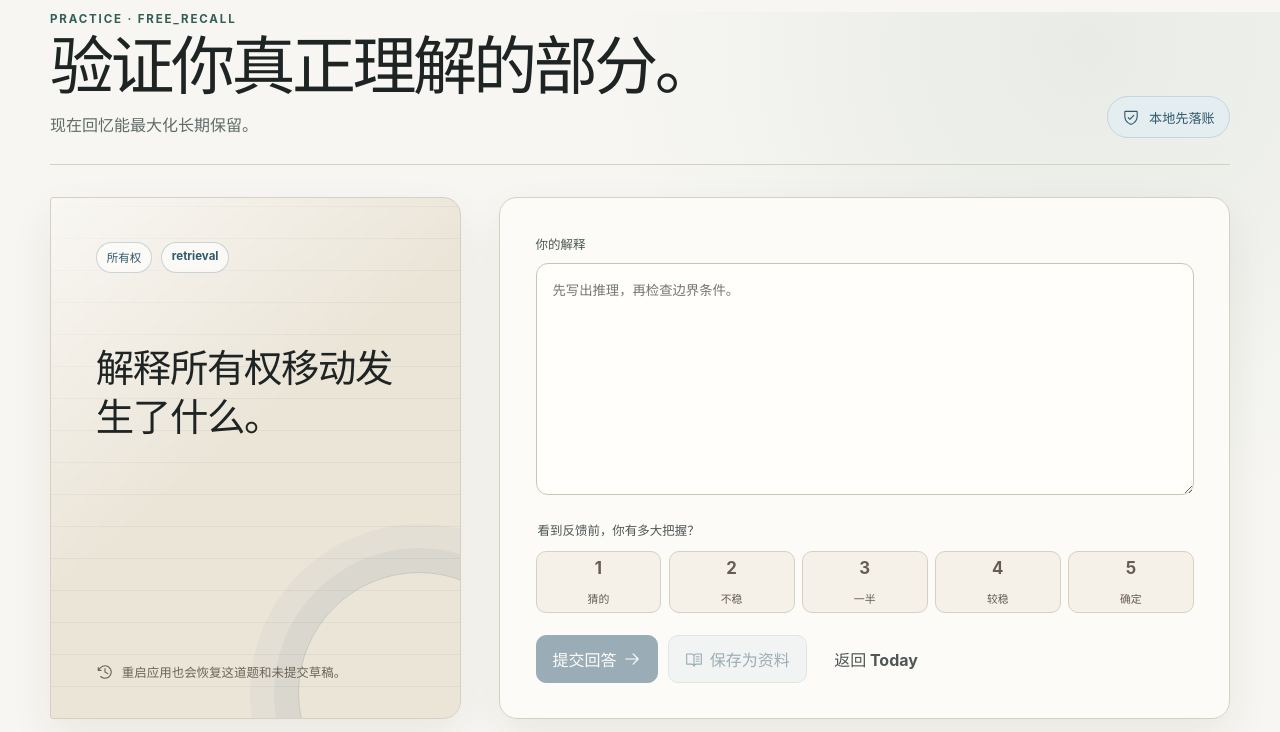
Test case: PracticePage › requires pre-feedback confidence and returns a zero-wait local receipt
Type "值被移动后，旧绑定不能再使用。" into the text box labelled "你的解释" at (865, 379), box x1=536 y1=263 x2=1194 y2=495
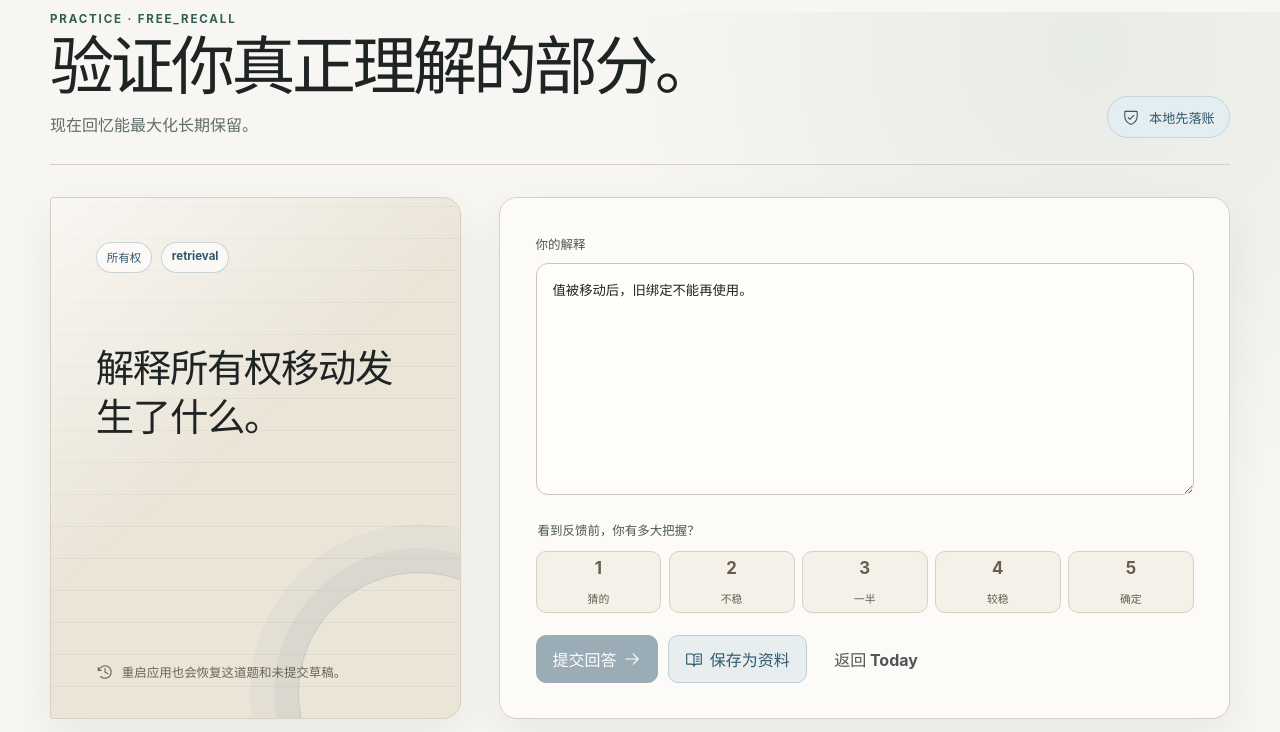
expect the button "提交回答" is disabled: met, box x1=536 y1=635 x2=658 y2=683
Click the button named "4较稳" at (998, 582), box x1=935 y1=551 x2=1061 y2=613
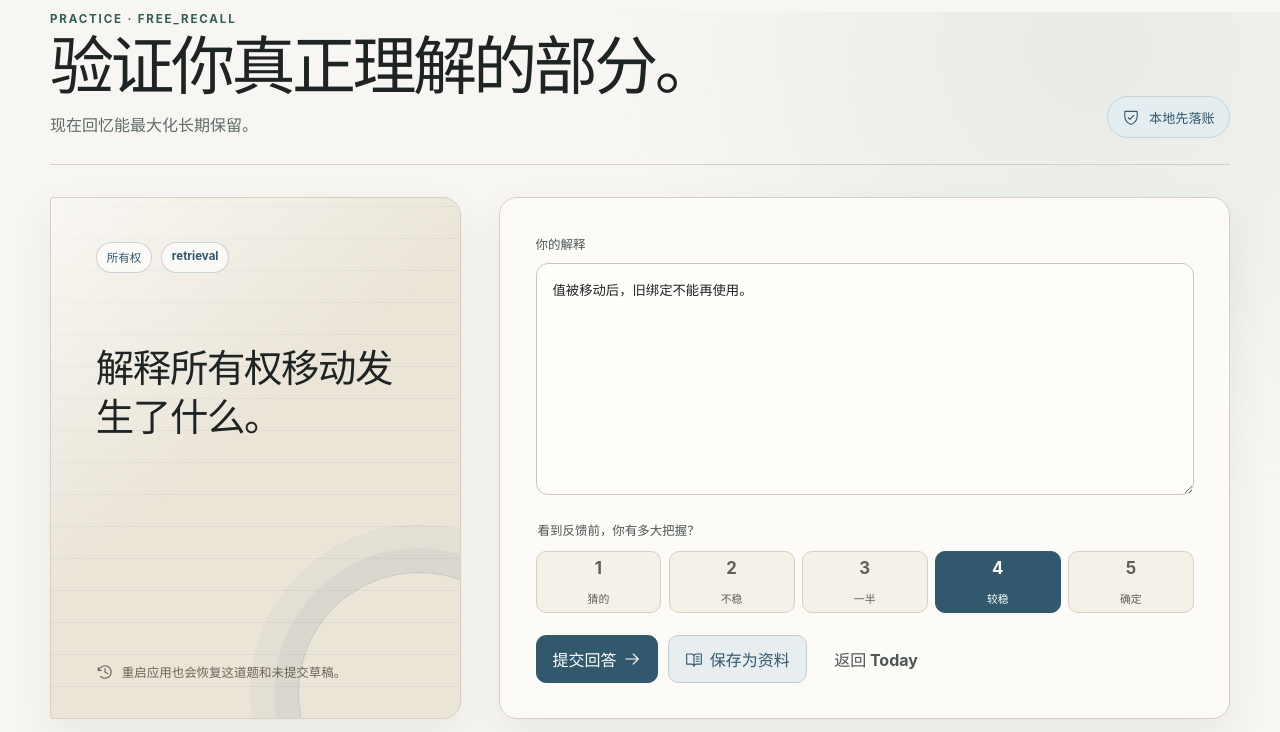
Click the button "提交回答" at (597, 659), box x1=536 y1=635 x2=658 y2=683
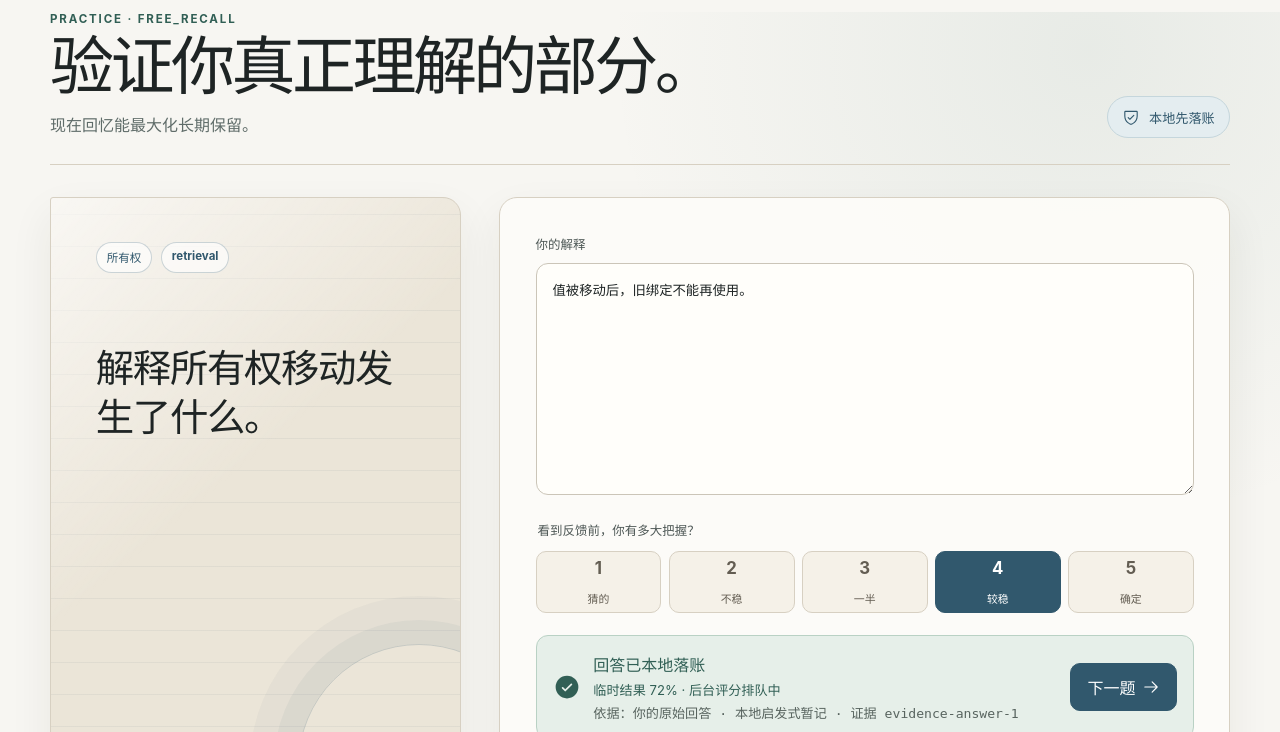
expect the text "回答已本地落账" is shown: met, box x1=593 y1=655 x2=705 y2=675
expect the text "临时结果 72% · 后台评分排队中" is shown: met, box x1=593 y1=682 x2=781 y2=698
expect the text "依据：你的原始回答 · 本地启发式暂记 · 证据 evidence-answer-1" is shown: met, box x1=593 y1=703 x2=1019 y2=722
